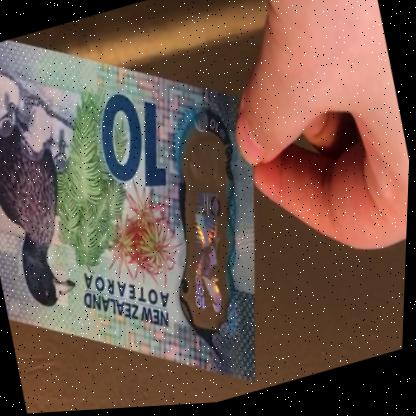10F: (161, 138, 258, 330)
